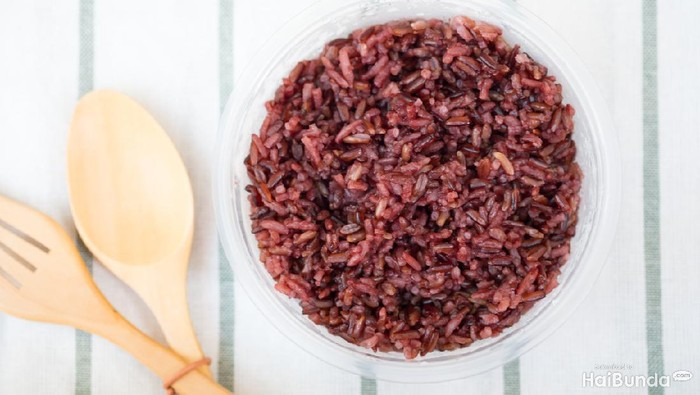Nasi Merah: (244, 48, 620, 335)
